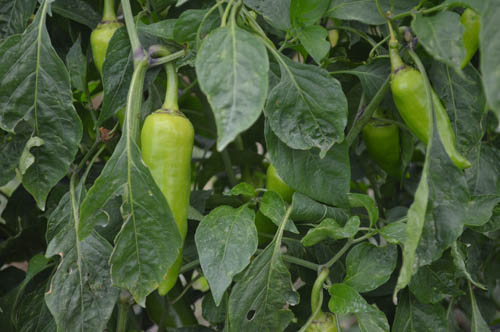ChiliPepper: (139, 115, 193, 295), (396, 71, 468, 166), (91, 26, 129, 121), (258, 164, 286, 241), (365, 122, 401, 177)
